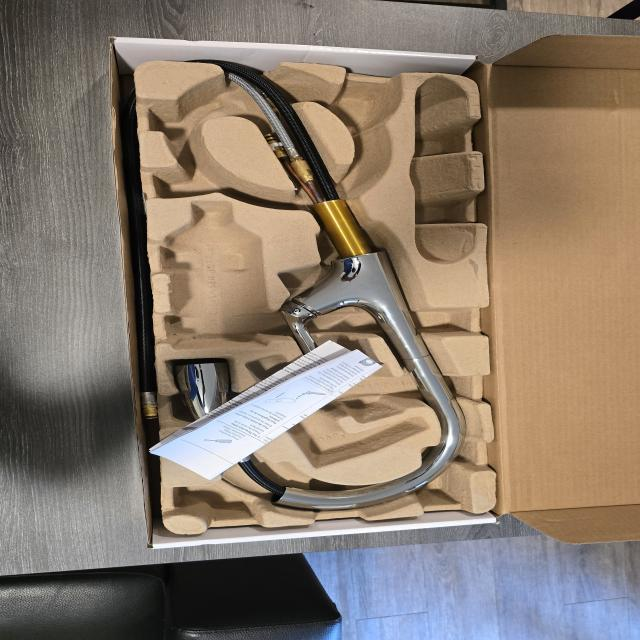1o: (173, 59, 469, 512)
2m: (247, 356, 427, 467)
3m: (167, 201, 264, 348)
4m: (409, 76, 476, 262)
5m: (331, 85, 394, 133)
6m: (150, 90, 226, 133)
7m: (153, 151, 238, 198)
8: (149, 341, 382, 480)
